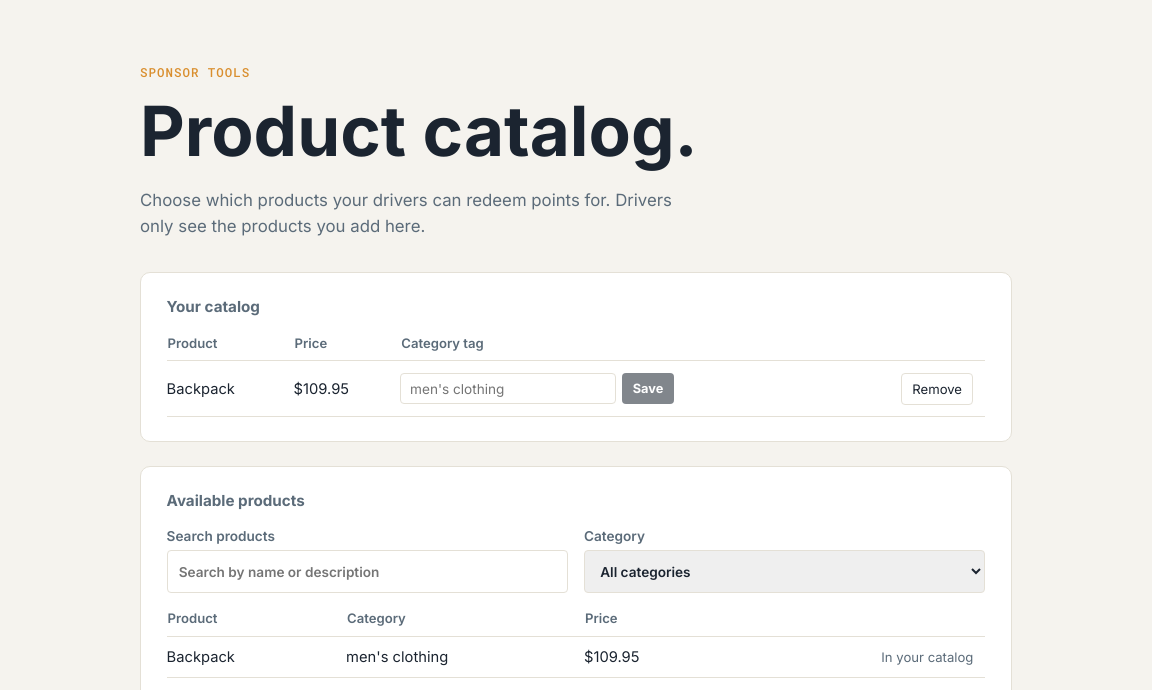
Test: removes a product and lets it be added again
This screenshot has width=1152, height=690.
Click the button "Remove" at [937, 389], box [901,373,973,405]
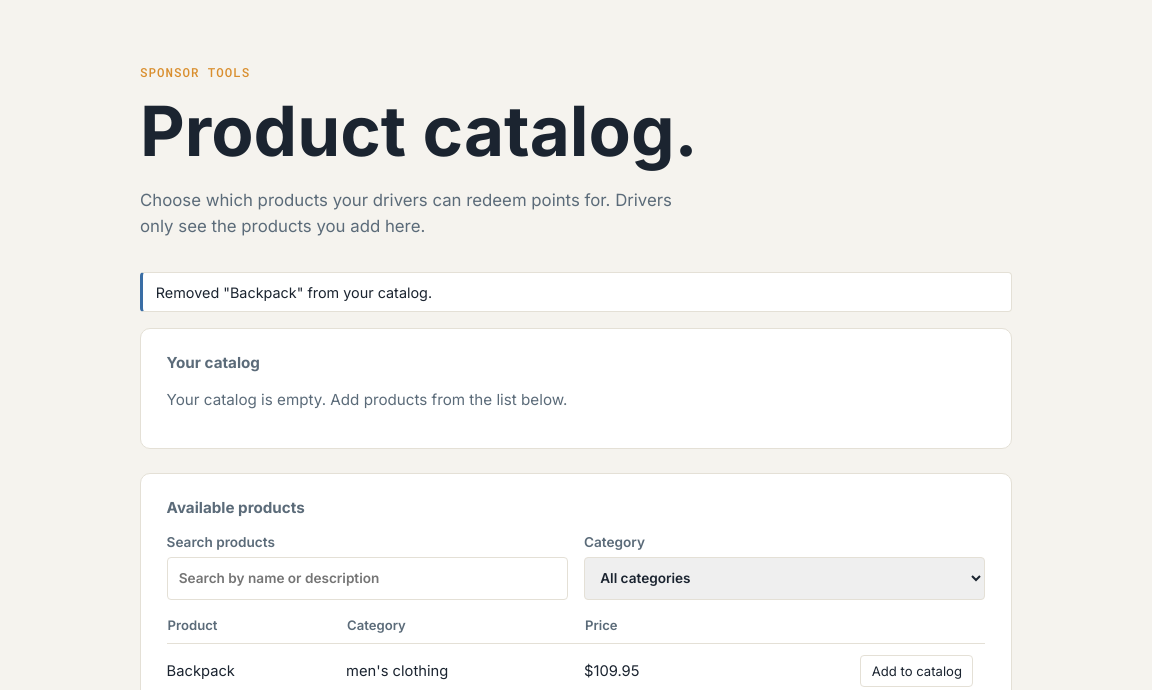
Check: the text "Your catalog is empty. Add products from the list below." is shown, box [167,390,567,409]
Check: the button "Add to catalog" in the row of "men's clothing" is shown, box [860,655,973,687]
